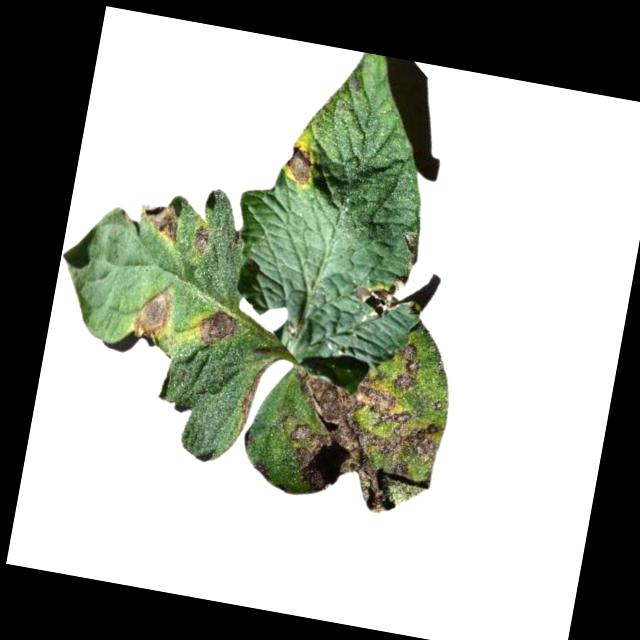Early_blight: (266, 368, 451, 522), (127, 278, 176, 347), (351, 270, 403, 320), (132, 200, 184, 246), (235, 362, 266, 433), (193, 307, 239, 350), (279, 140, 318, 187), (390, 339, 423, 389), (188, 219, 212, 252)
